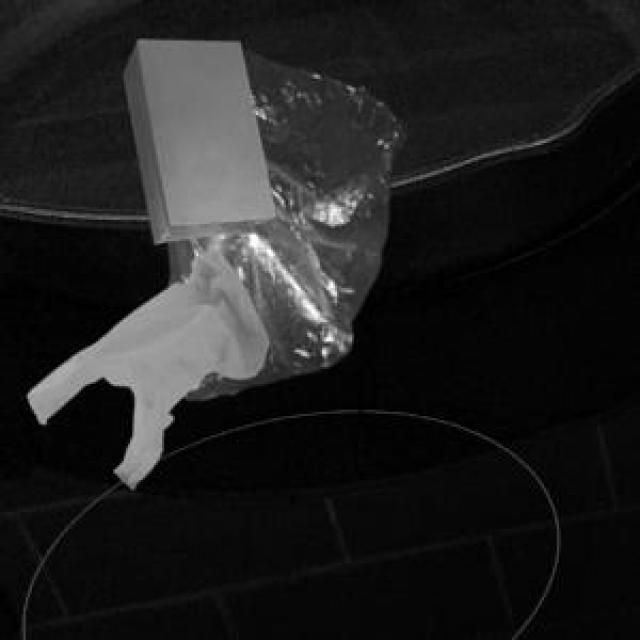paper: (120, 36, 271, 239)
